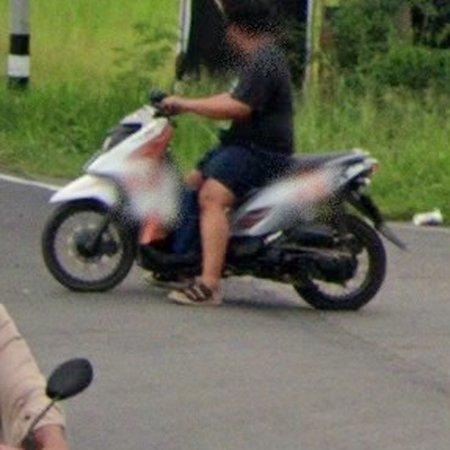motorcycles: (228, 213, 387, 310)
